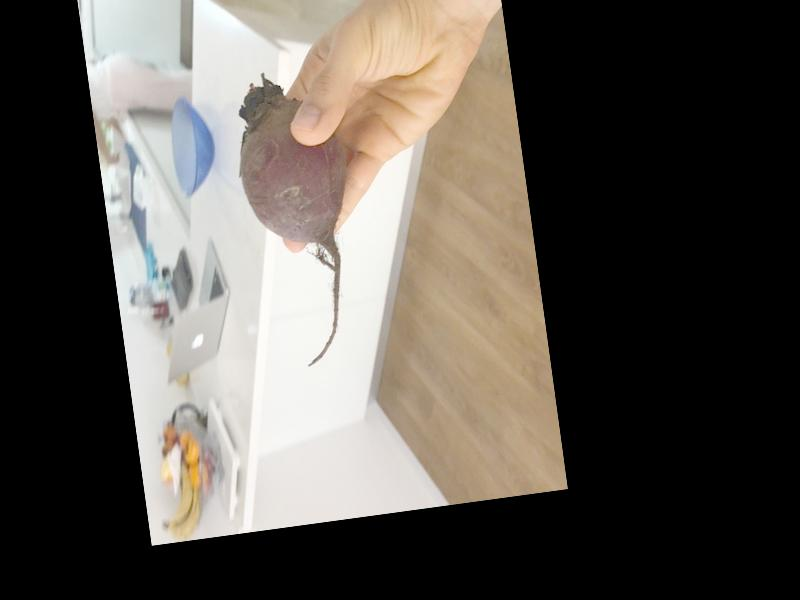Beet: (228, 67, 369, 372)
